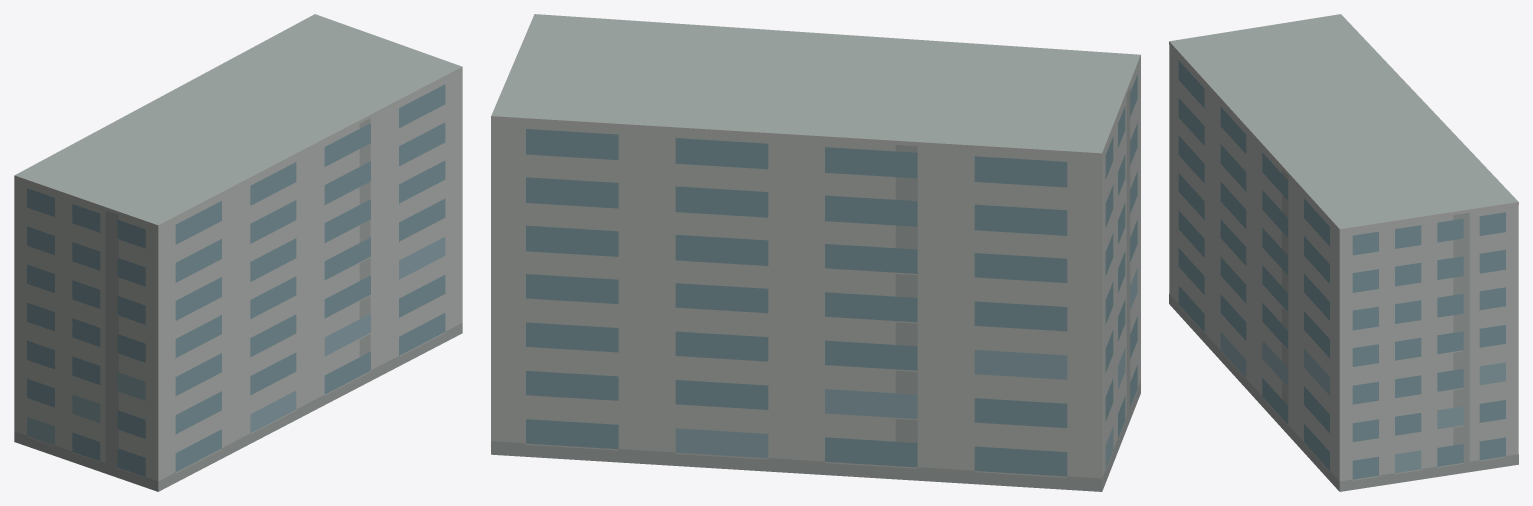
The model's file is residential-baca7bf5-5aba-4569-803d-fbc5b5a13030.glb.
3 views of the same model, side by side, from view 1: azimuth 30°, elevation 25°; view 2: azimuth 150°, elevation 25°; view 3: azimuth 270°, elevation 25° (orthographic). The views are drawn at different scales.
Visible parts, largest first — view 1: residential-baca7bf5-5aba-4569-803d-fbc5b5a13030.tmp; view 2: residential-baca7bf5-5aba-4569-803d-fbc5b5a13030.tmp; view 3: residential-baca7bf5-5aba-4569-803d-fbc5b5a13030.tmp.
Boxes of the visible parts, <box> form: residential-baca7bf5-5aba-4569-803d-fbc5b5a13030.tmp: <box>14,14,462,491</box>; residential-baca7bf5-5aba-4569-803d-fbc5b5a13030.tmp: <box>491,14,1140,491</box>; residential-baca7bf5-5aba-4569-803d-fbc5b5a13030.tmp: <box>1169,14,1518,491</box>.
Size of the model in its own units: 35.15 by 20 by 24.13.
